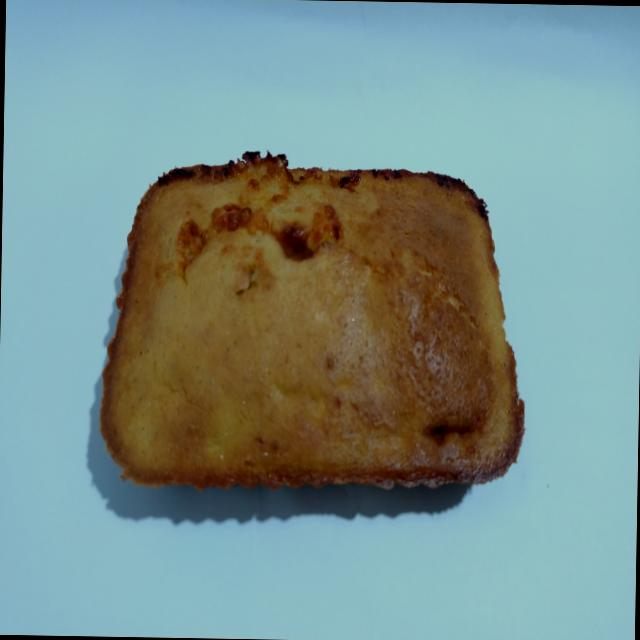Sopa: (83, 139, 534, 503)
